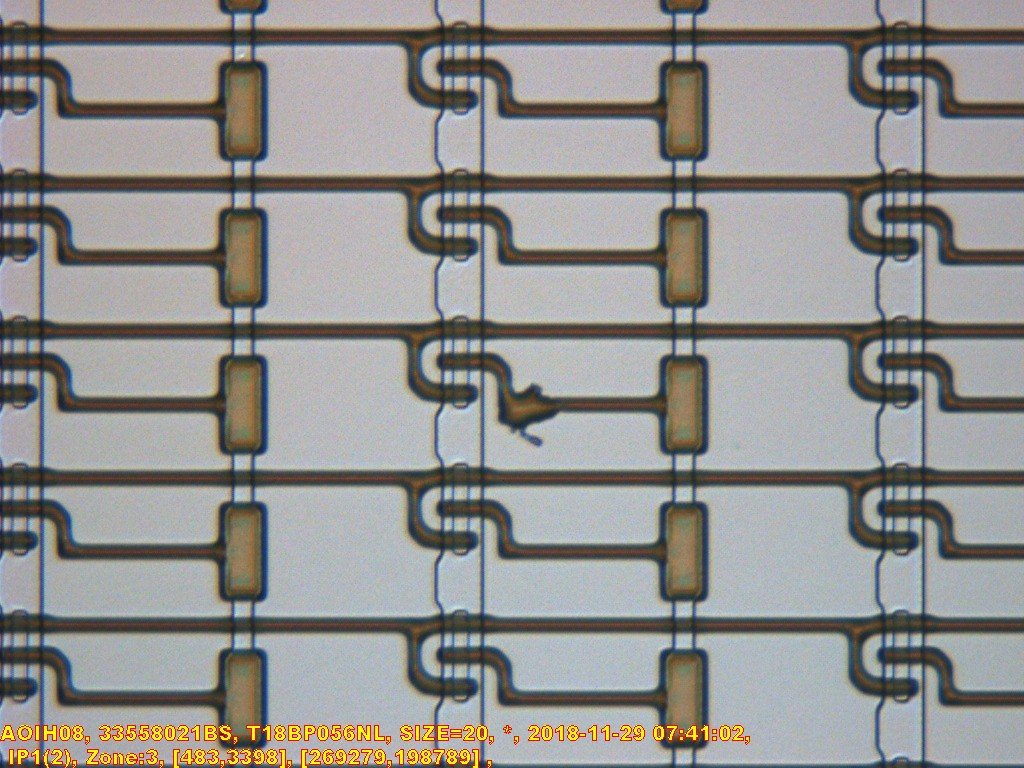PP02-C: (507, 384, 558, 447)
